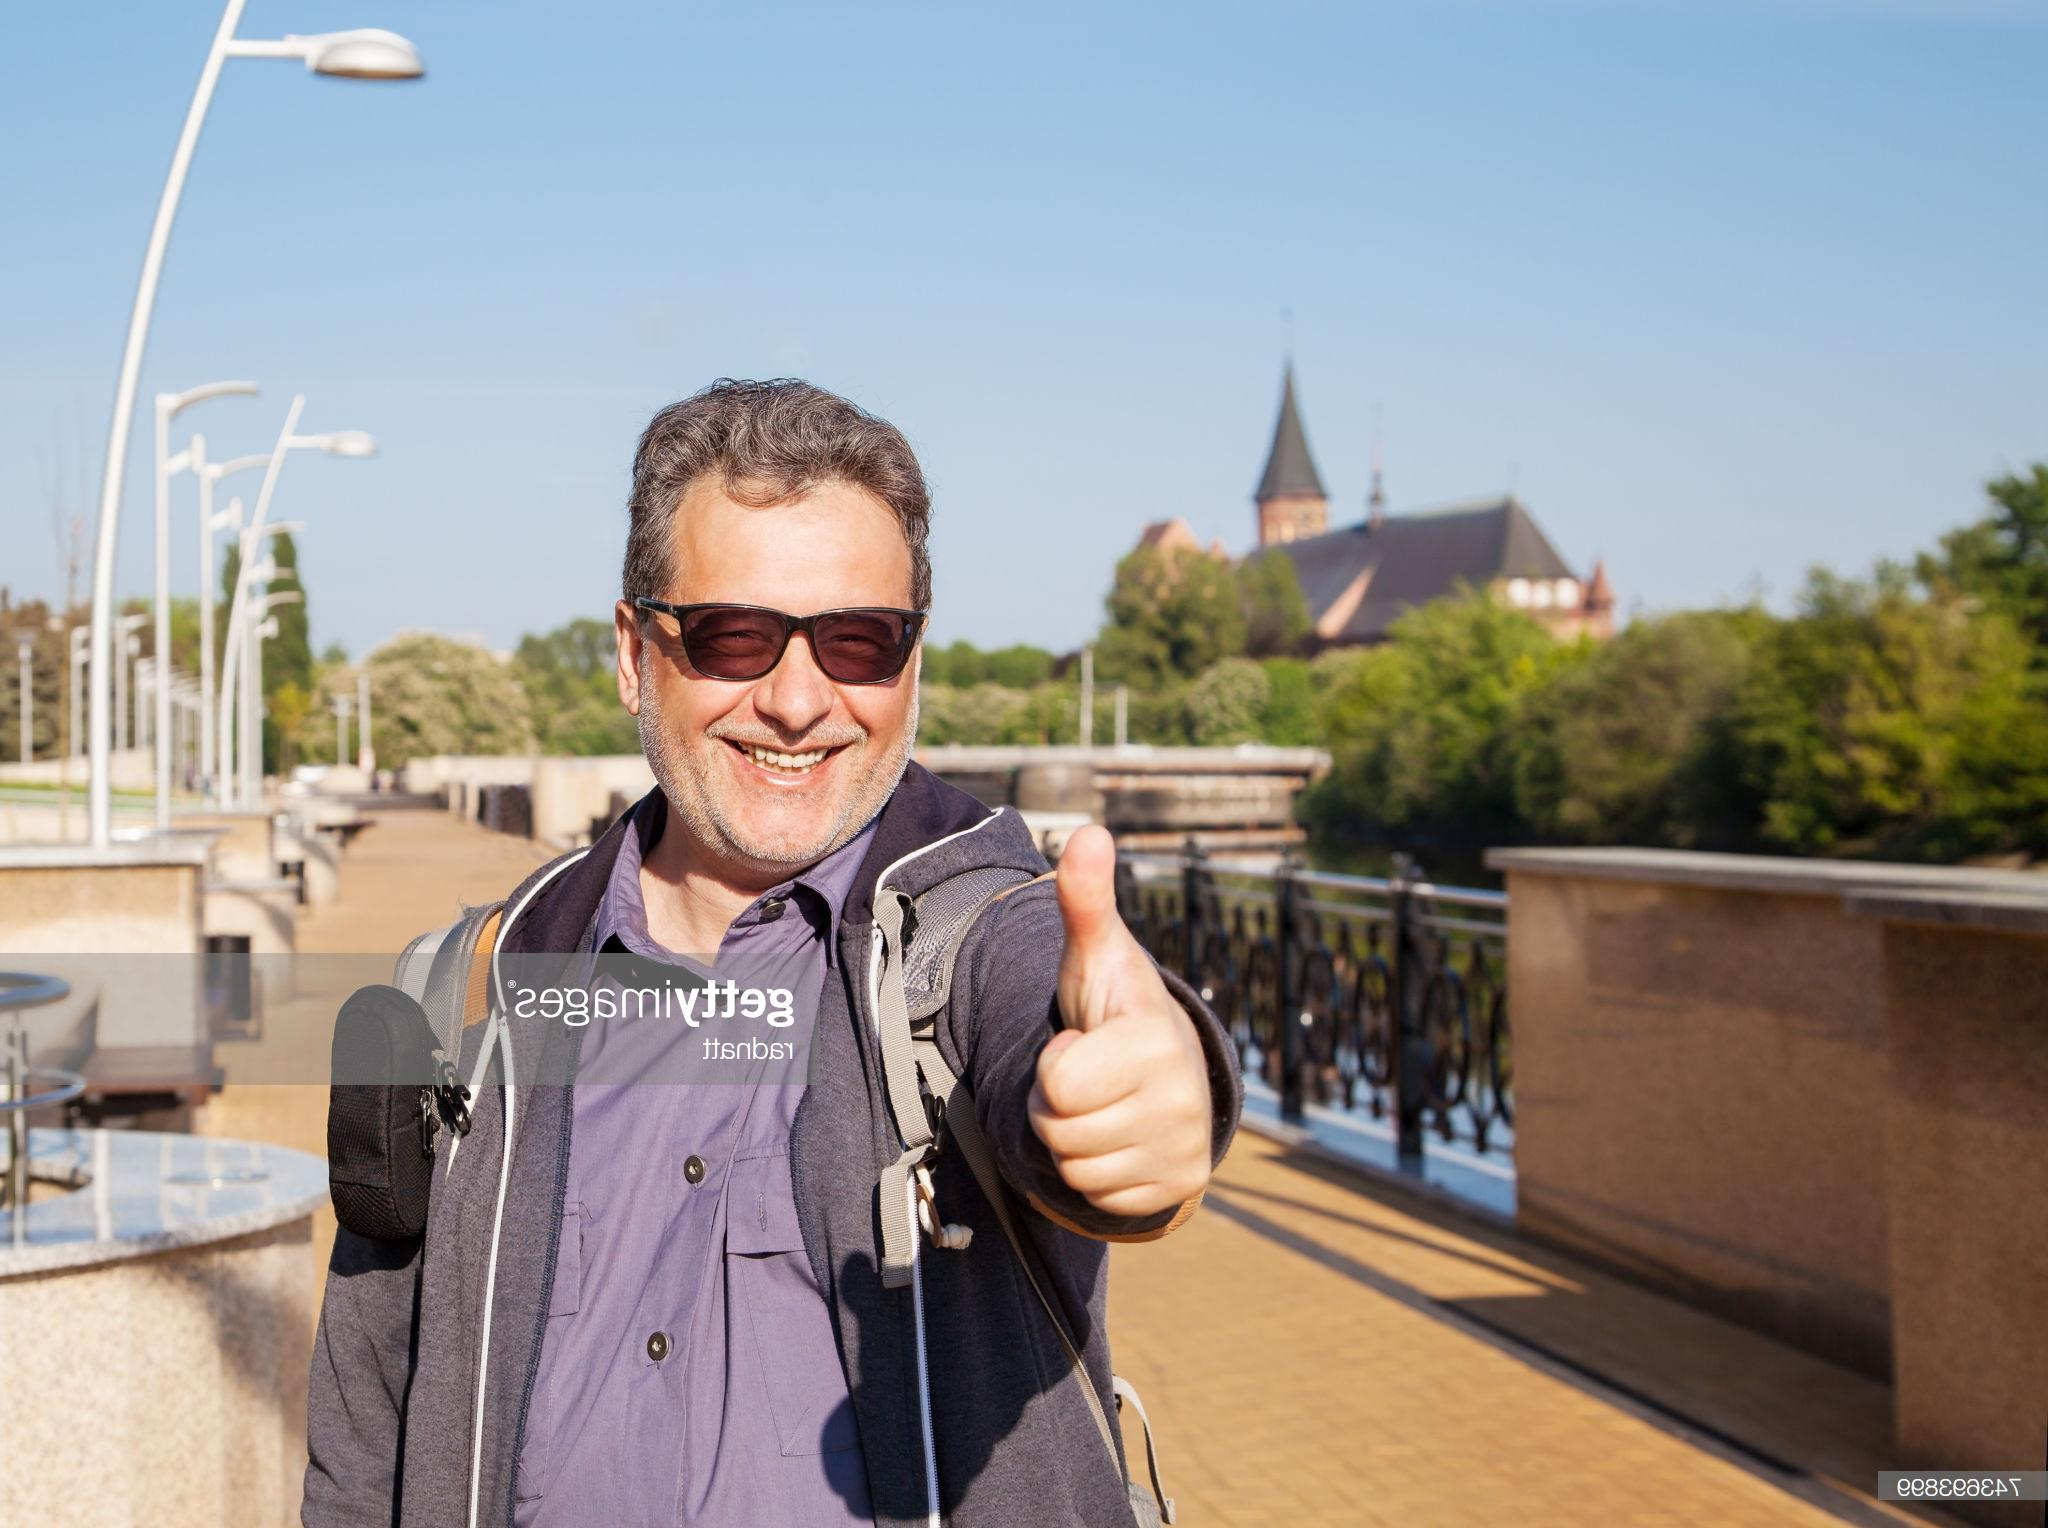thumbsup: (1027, 822, 1213, 1217)
